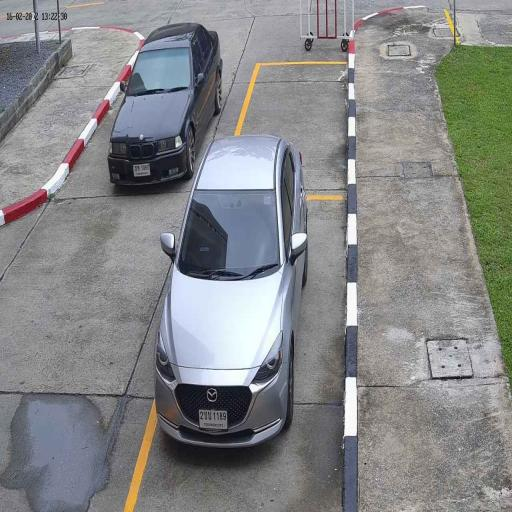car: (154, 132, 309, 450), (108, 21, 224, 190)
